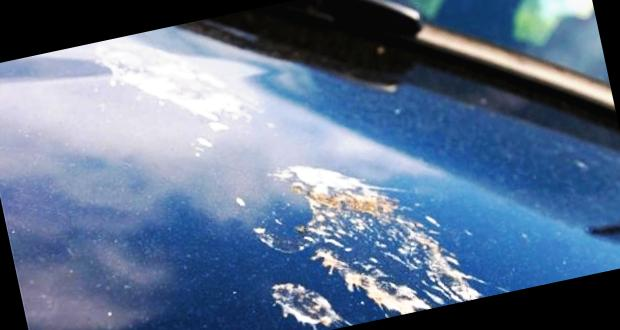Bird Poop: (254, 166, 484, 316), (96, 44, 242, 130), (272, 282, 352, 327)
